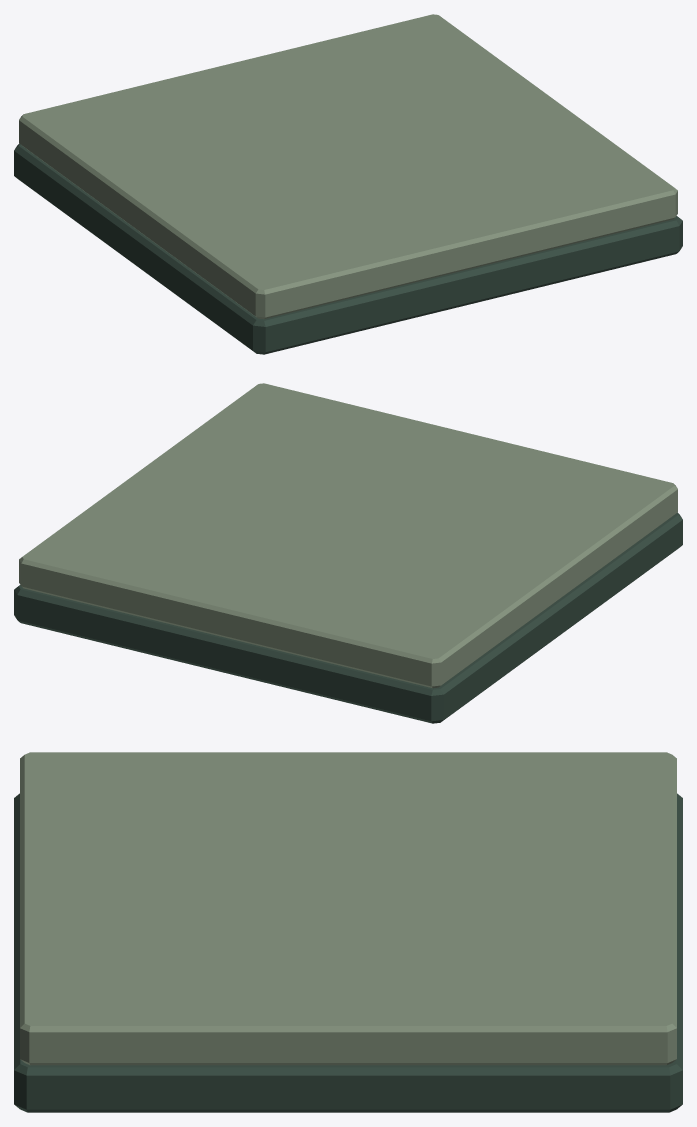
File: floor-small.glb
3 views of the same model, one above another, from view 1: azimuth 30°, elevation 25°; view 2: azimuth 150°, elevation 25°; view 3: azimuth 270°, elevation 25° (orthographic). The views are drawn at different scales.
Parts seen in each view (by area): view 1: floor-small__body; view 2: floor-small__body; view 3: floor-small__body.
Part boxes in pixels (left/top/right/bottom): floor-small__body: left=14, top=14, right=682, bottom=354; floor-small__body: left=14, top=383, right=682, bottom=723; floor-small__body: left=14, top=752, right=682, bottom=1112.
Size of the model in its own units: 1 by 0.14 by 1.
